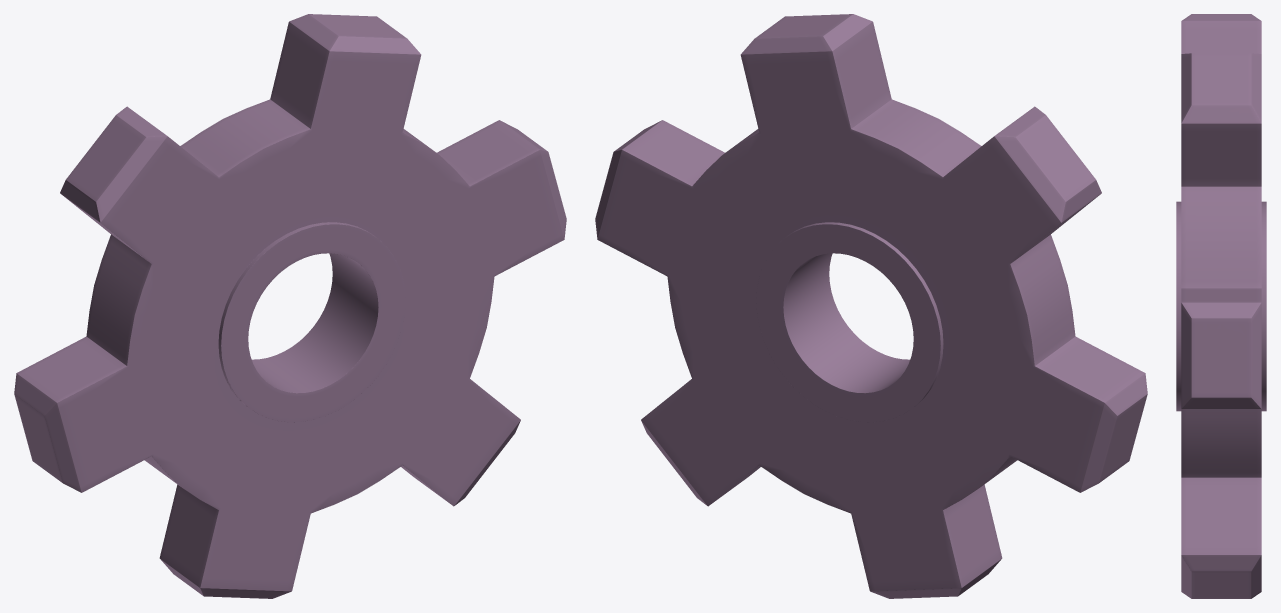
The model's file is cog.glb.
3 renders of one model, left to right at view 1: azimuth 30°, elevation 25°; view 2: azimuth 150°, elevation 25°; view 3: azimuth 270°, elevation 25°, orthographic.
Parts seen in each view (by area): view 1: Cog; view 2: Cog; view 3: Cog.
Part boxes in pixels (x1=…): Cog: x1=14, y1=14, x2=566, y2=598; Cog: x1=595, y1=14, x2=1147, y2=598; Cog: x1=1176, y1=14, x2=1266, y2=598.
Bounding box in the file's own units: 7.41 × 7.41 × 1.13.
